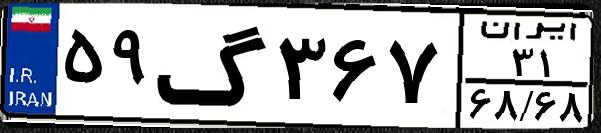1: (537, 27, 568, 80)
3: (270, 28, 330, 110), (508, 27, 537, 80)
5: (57, 26, 110, 100)
6: (330, 28, 385, 110), (470, 70, 495, 125), (535, 70, 560, 125)
7: (385, 28, 445, 110)
8: (560, 70, 590, 125), (495, 70, 520, 125)
9: (110, 28, 156, 98)
گ: (156, 12, 270, 120)
